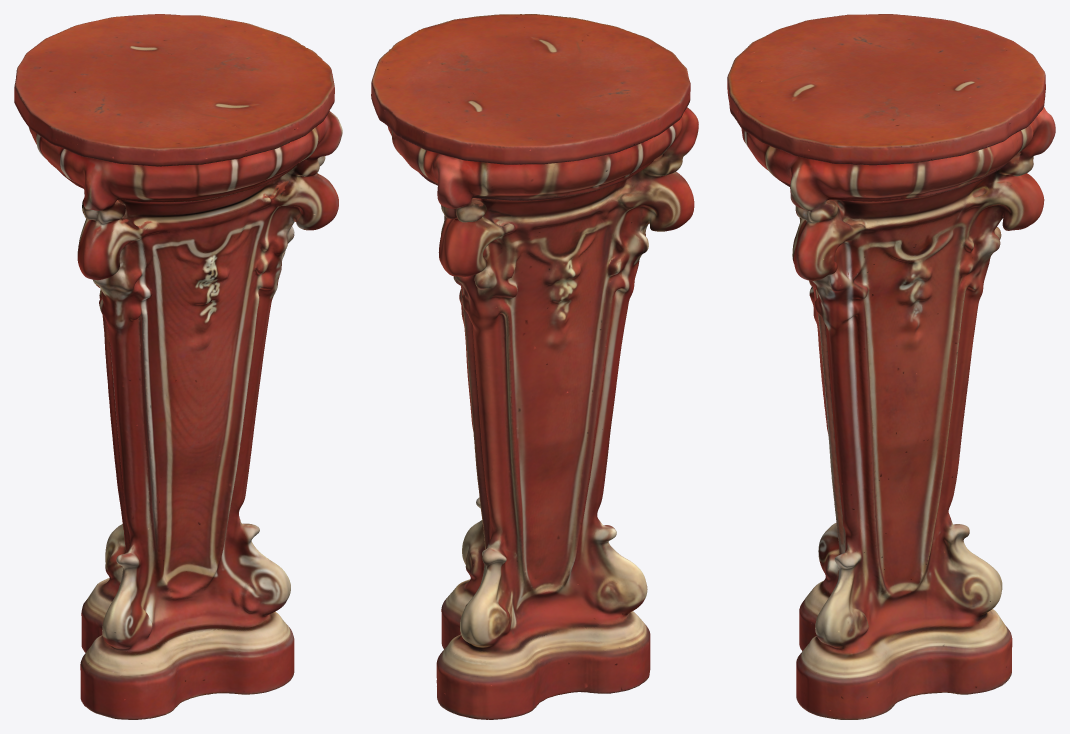
The model's file is Meshy_AI_piedistallo_in_legno_0205075937_texture.glb.
The picture shows the model from 3 angles, left to right: view 1: azimuth 30°, elevation 25°; view 2: azimuth 150°, elevation 25°; view 3: azimuth 270°, elevation 25°; orthographic projection.
Size of the model in its own units: 0.9713 by 2 by 1.
Materials: 1 (1 with a texture image).
